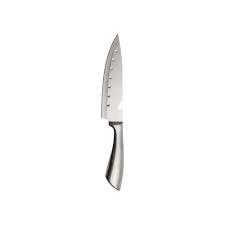Knife: (100, 32, 124, 190)
